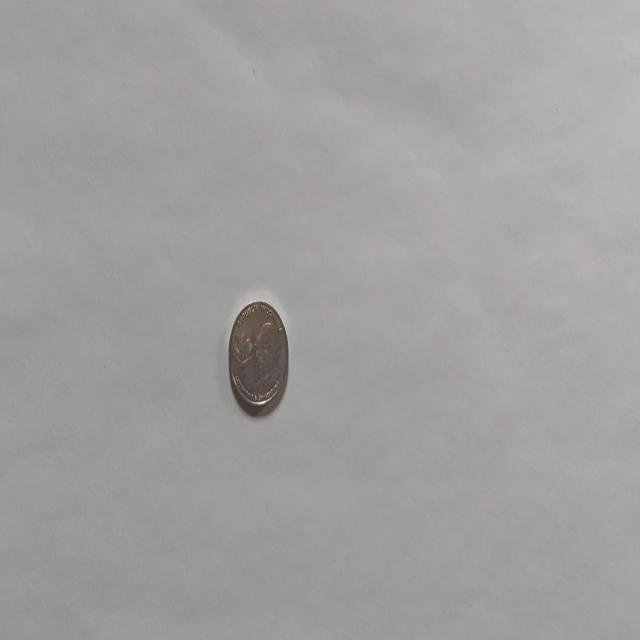lima ratus rupiah: (227, 298, 289, 414)
